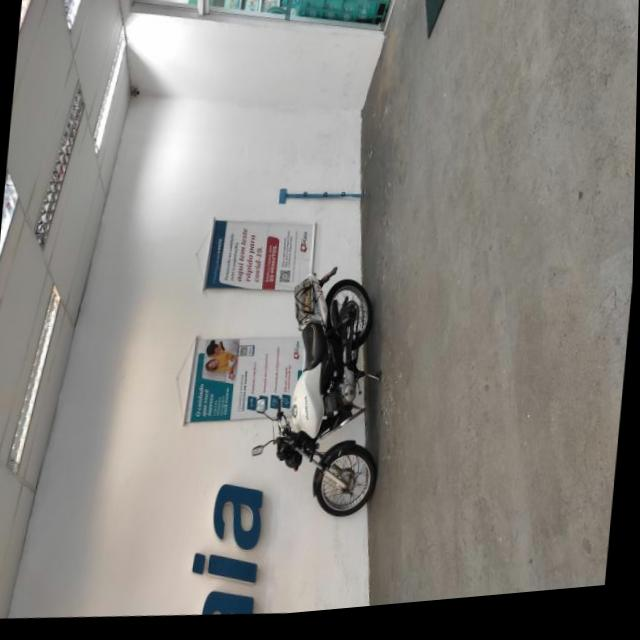qrcode: (282, 274, 293, 289), (242, 351, 250, 360)
